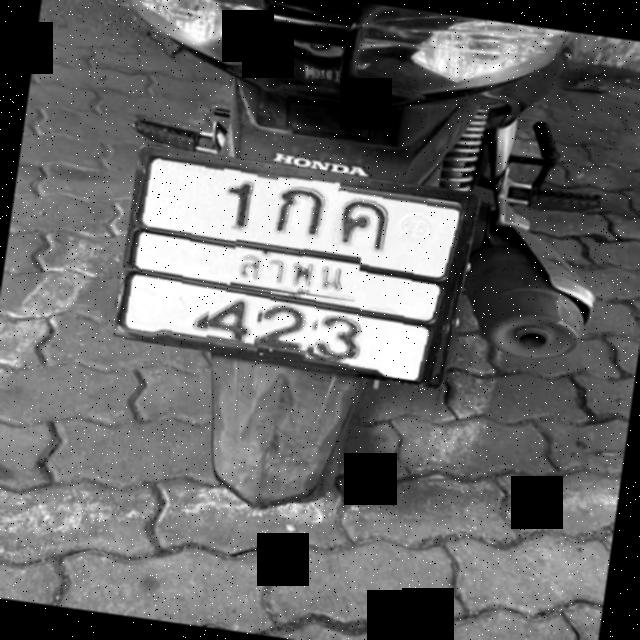letters: (270, 174, 340, 250), (332, 190, 394, 258), (257, 302, 315, 361), (206, 290, 260, 347), (216, 166, 258, 228), (313, 310, 365, 360)
license-plate: (113, 156, 473, 383)
province: (230, 235, 362, 302)
